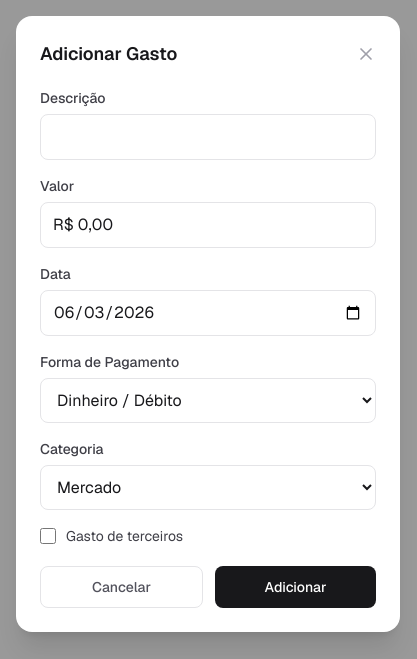
AddTransactionModal › should format amount field as BRL currency while typing
The image size is (417, 659).
Step 1. Type "10000" into the field labelled "Valor" → (208, 225), box [40, 202, 376, 248]
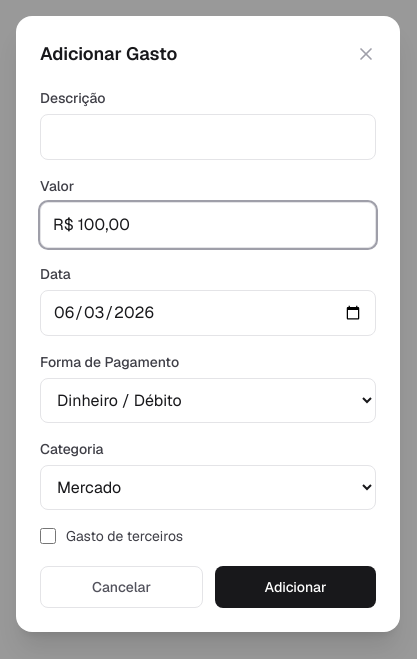
Expected: the field labelled "Valor" holds "R$ 100,00", [40, 202, 376, 248]
